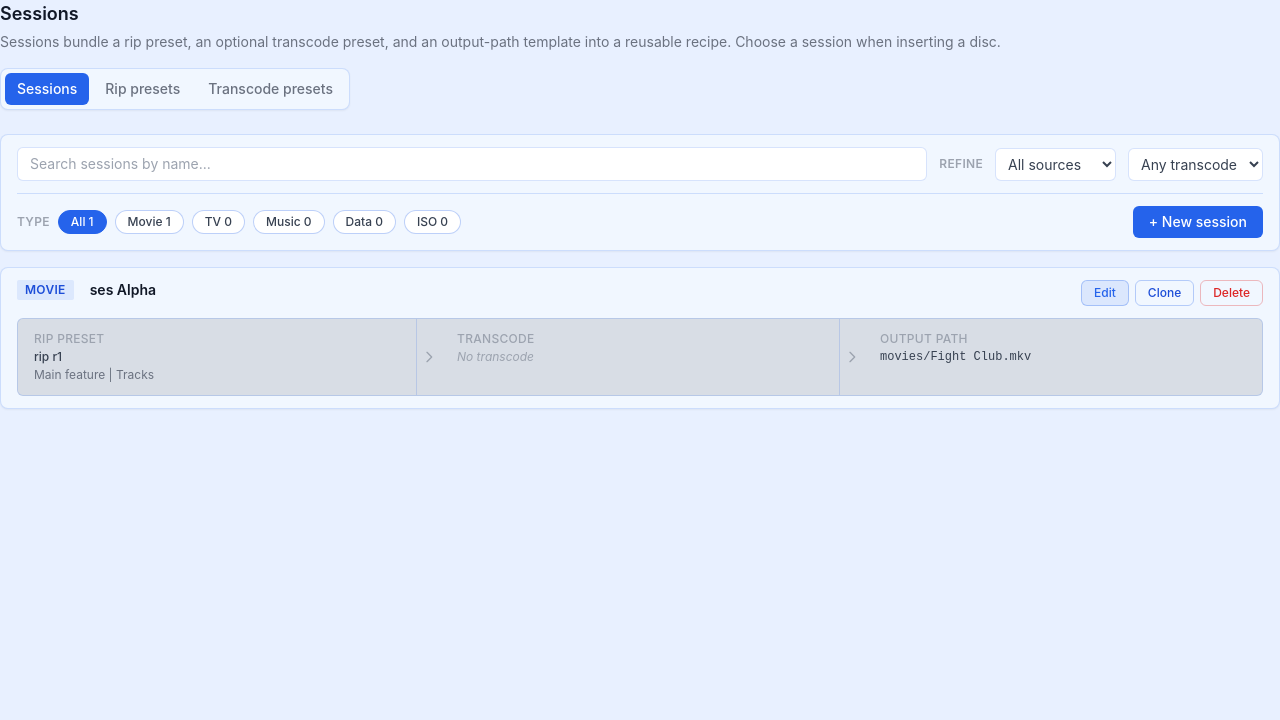
Test case: inline rip create: saving a new preset closes the form, reloads, and returns to builder
Click the button "+ New session".
click(1198, 222)  # box 1133,206 -> 1263,238
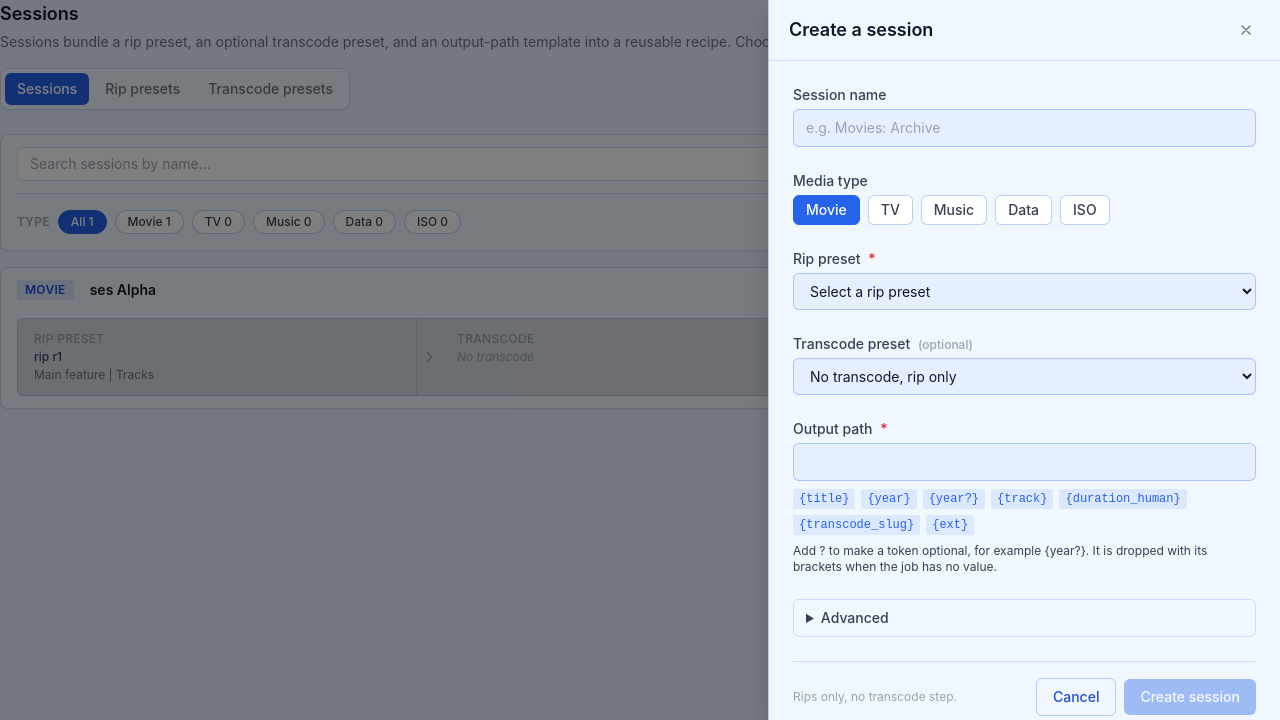
# Open the inline create form
Select "+ Create new rip preset..." in the dropdown labelled "Rip preset *" at (1024, 292), box 793,273 -> 1256,310
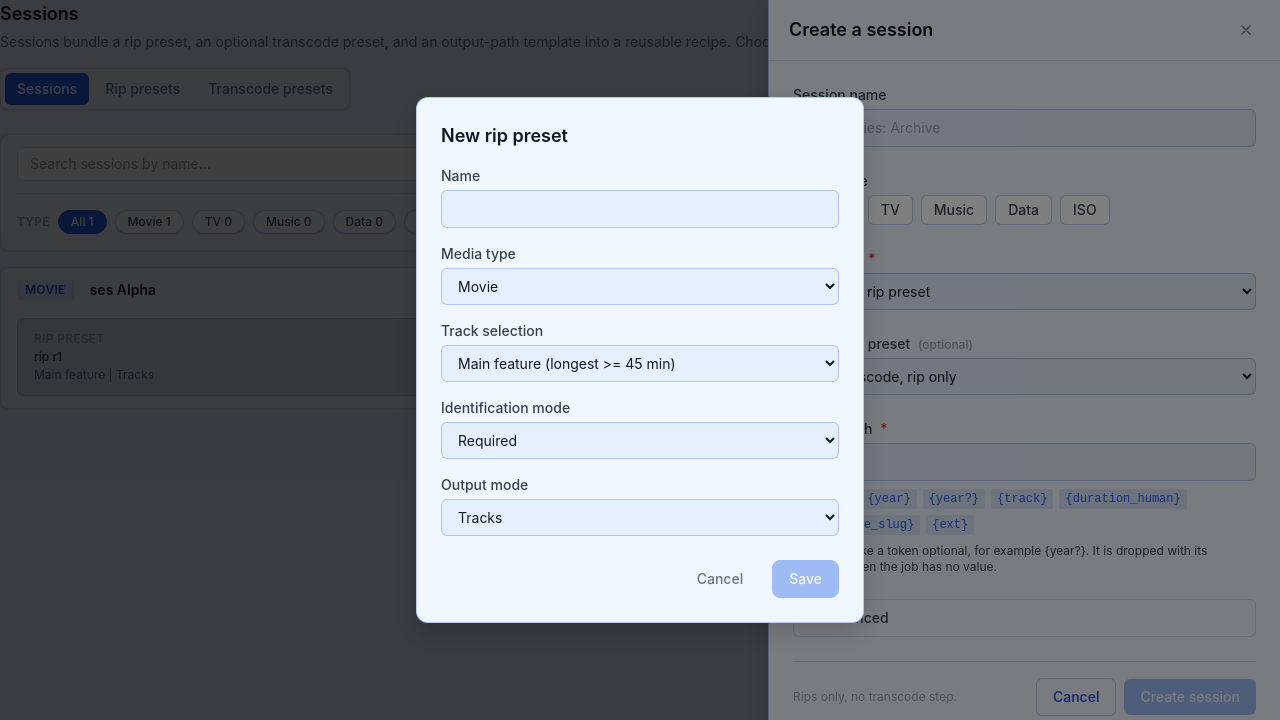
Check: the dialog "New rip preset" is shown, box 416,97 -> 864,623
# Fill in the preset name (required field)
Type "My New Rip" into the field with test id "preset-name".
click(640, 209); type("My New Rip")  # box 441,190 -> 839,228
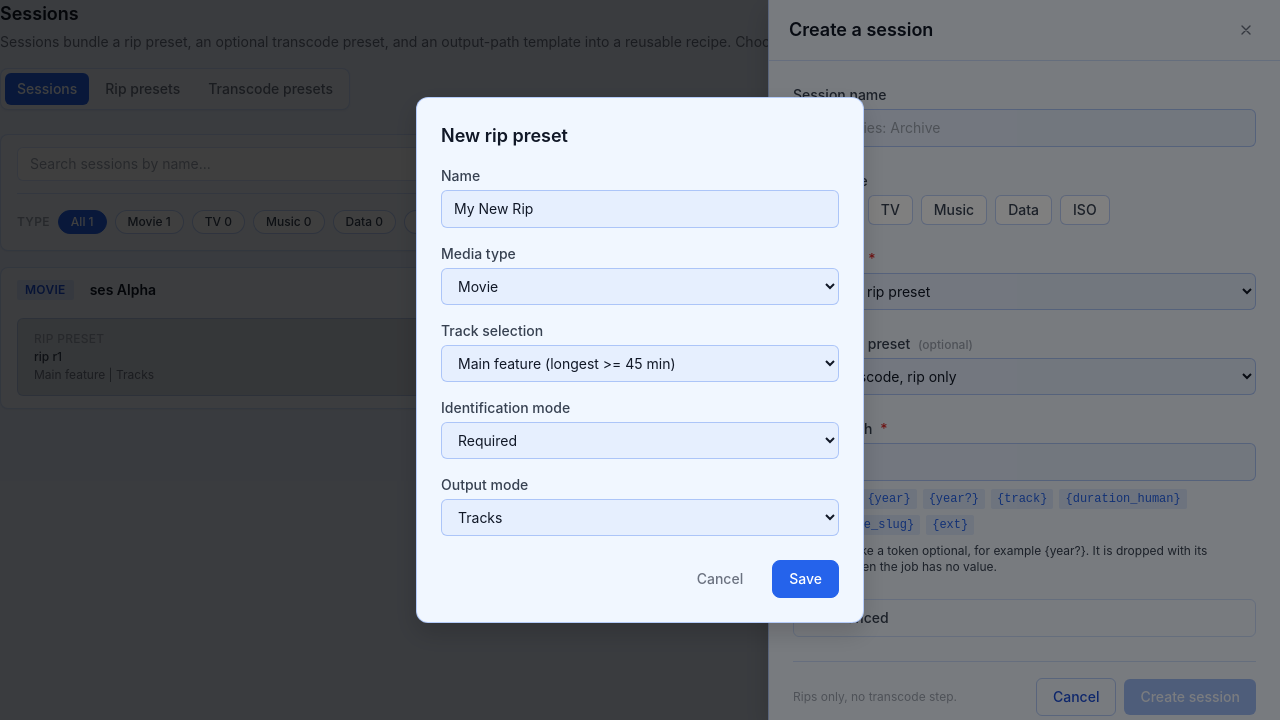
# Submit the form
Click the button with test id "preset-submit".
click(806, 579)  # box 772,560 -> 839,598
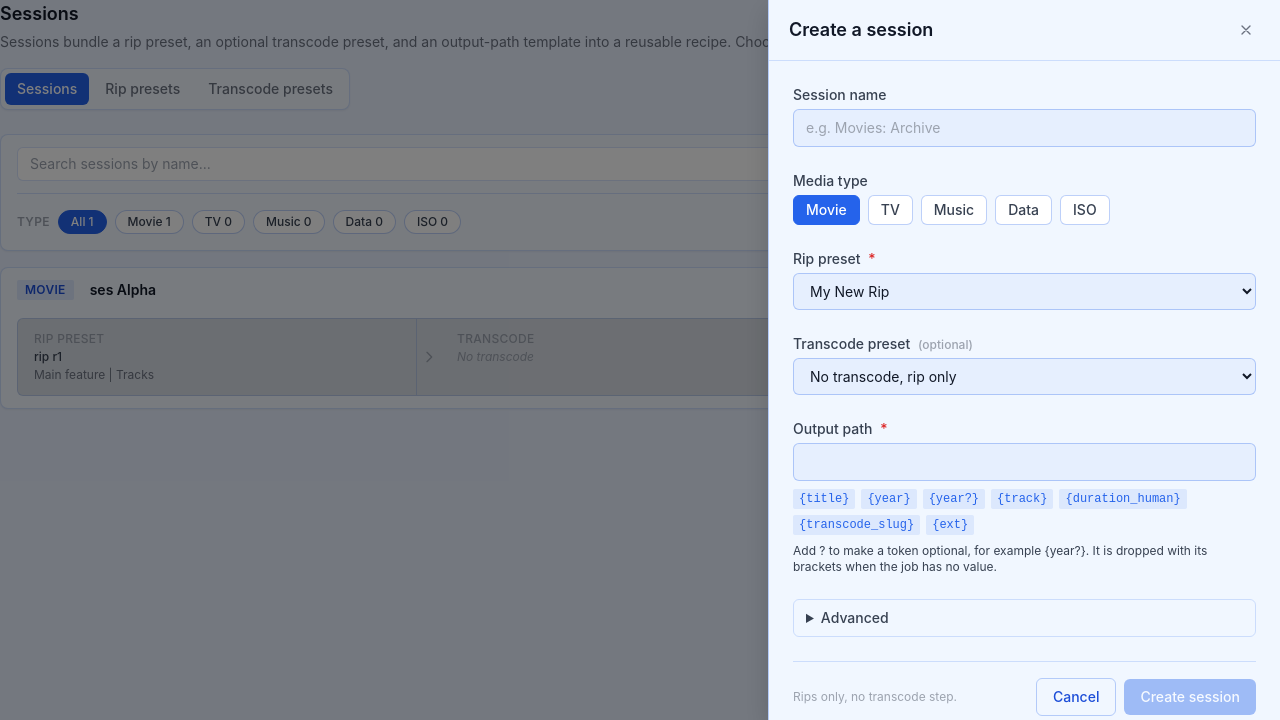
Check: the heading "Create a session" is shown, box 789,16 -> 933,44
Check: the heading "New rip preset" is gone
